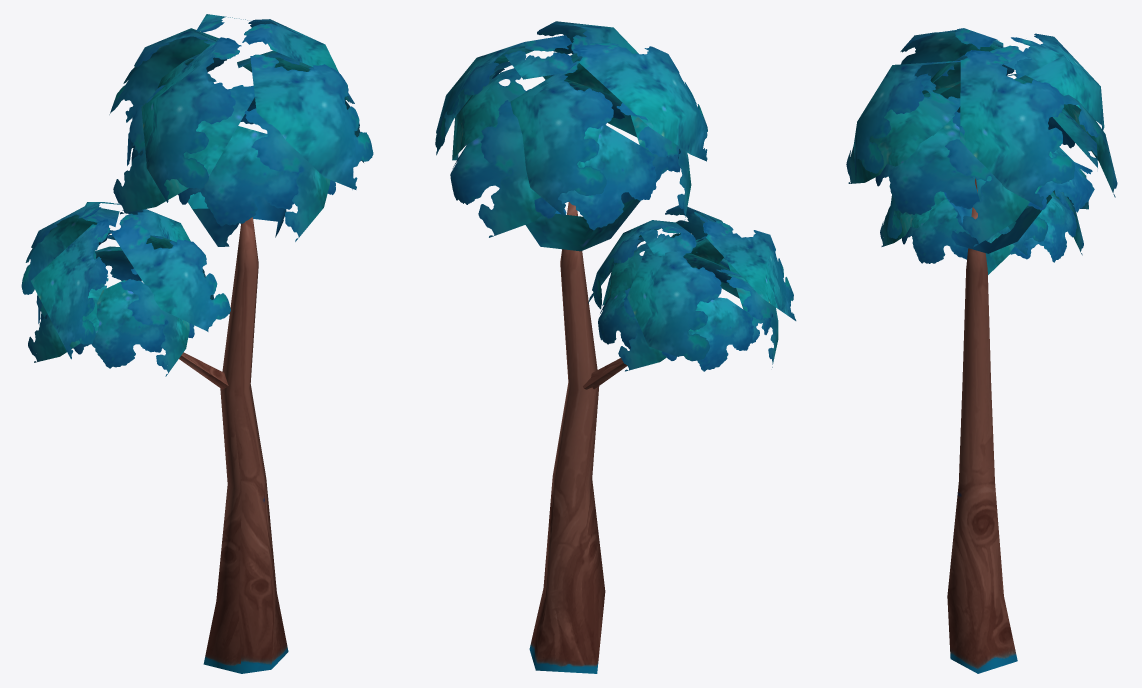
File: nameikexingshu01.FBX
The picture shows the model from 3 angles, left to right: view 1: azimuth 30°, elevation 25°; view 2: azimuth 150°, elevation 25°; view 3: azimuth 270°, elevation 25°; orthographic projection. The views are drawn at different scales.
Parts seen in each view (by area): view 1: nameikexingshu01; view 2: nameikexingshu01; view 3: nameikexingshu01.
Boxes of the visible parts, x1,y1,x2,y2 form: nameikexingshu01: (21, 14, 373, 673); nameikexingshu01: (435, 21, 796, 673); nameikexingshu01: (846, 28, 1117, 673).
Size of the model in its own units: 391 by 702 by 297.
